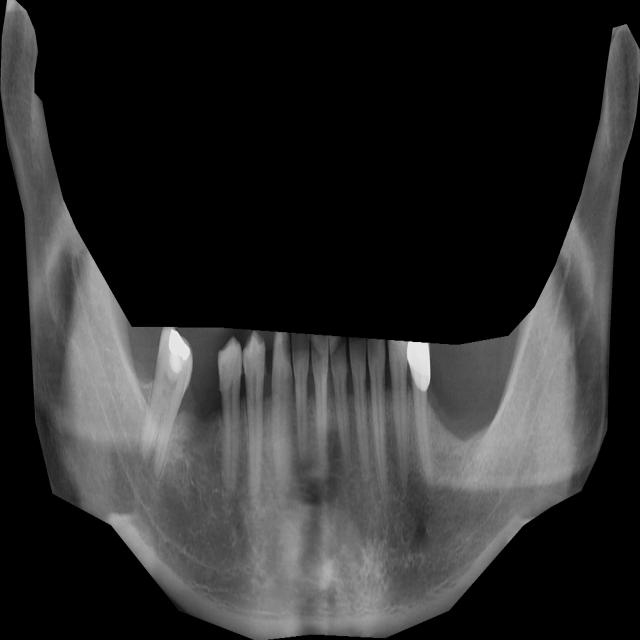mandibula: (0, 0, 640, 640)
